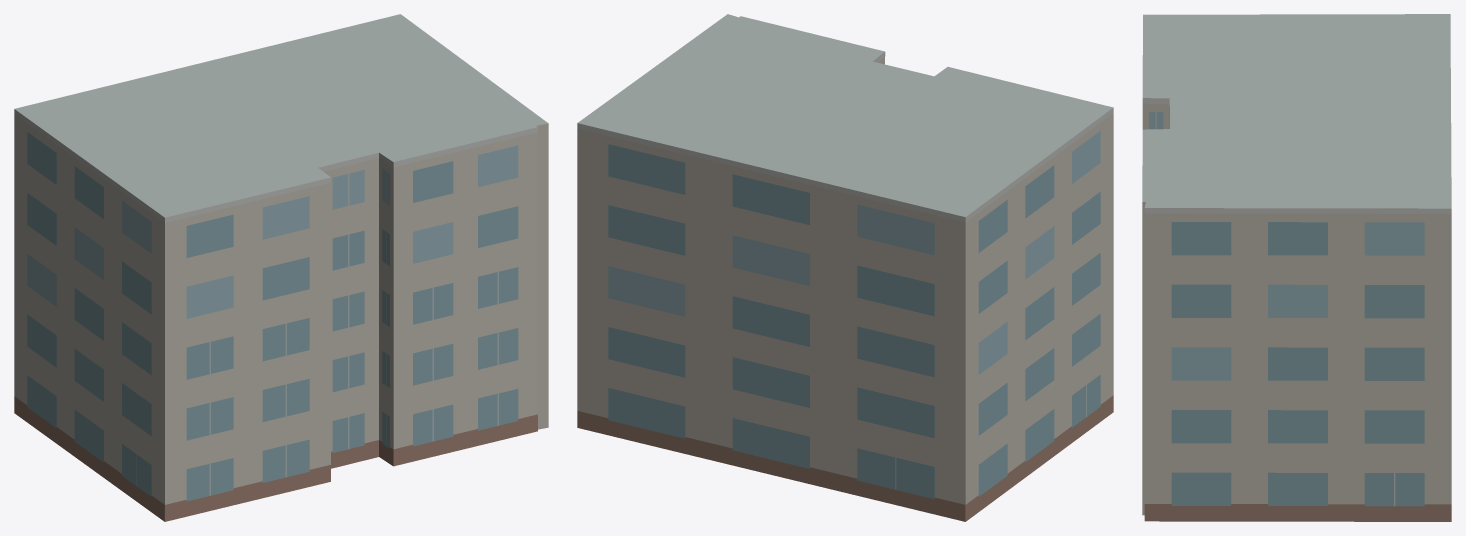
File: survey-upis-32973782.glb
3 views of the same model, side by side, from view 1: azimuth 30°, elevation 25°; view 2: azimuth 150°, elevation 25°; view 3: azimuth 270°, elevation 25° (orthographic). The views are drawn at different scales.
Parts seen in each view (by area): view 1: survey-upis-32973782.tmp; view 2: survey-upis-32973782.tmp; view 3: survey-upis-32973782.tmp.
Part boxes in pixels (bbox=[...]): survey-upis-32973782.tmp: bbox=[14, 14, 548, 521]; survey-upis-32973782.tmp: bbox=[577, 14, 1113, 521]; survey-upis-32973782.tmp: bbox=[1142, 14, 1451, 521].
Bounding box in the file's own units: 18.78 × 14.1 × 12.63.
